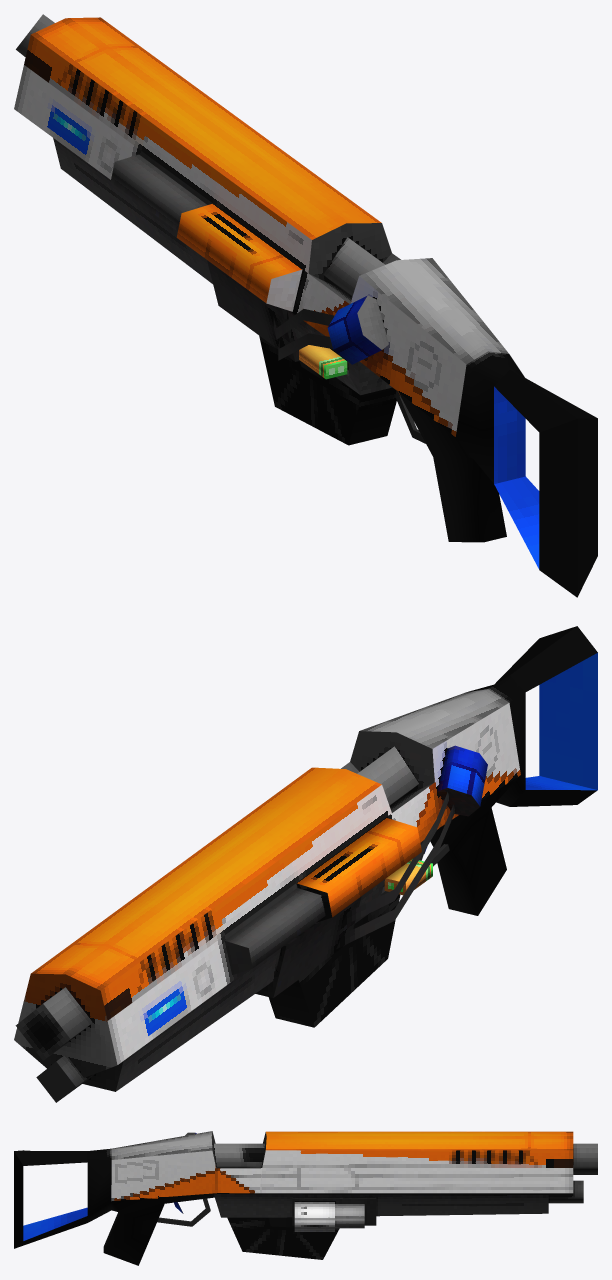
3 renders of one model, top to bottom at view 1: azimuth 30°, elevation 25°; view 2: azimuth 150°, elevation 25°; view 3: azimuth 270°, elevation 25°, orthographic. The views are drawn at different scales.
Visible parts, largest first — view 1: shotgun.001; view 2: shotgun.001; view 3: shotgun.001.
Boxes of the visible parts, bbox=[...] form: shotgun.001: bbox=[14, 14, 597, 597]; shotgun.001: bbox=[14, 626, 597, 1102]; shotgun.001: bbox=[14, 1131, 597, 1265].
Size of the model in its own units: 0.2266 by 0.3369 by 1.42.
Materials: 1 (1 with a texture image).
